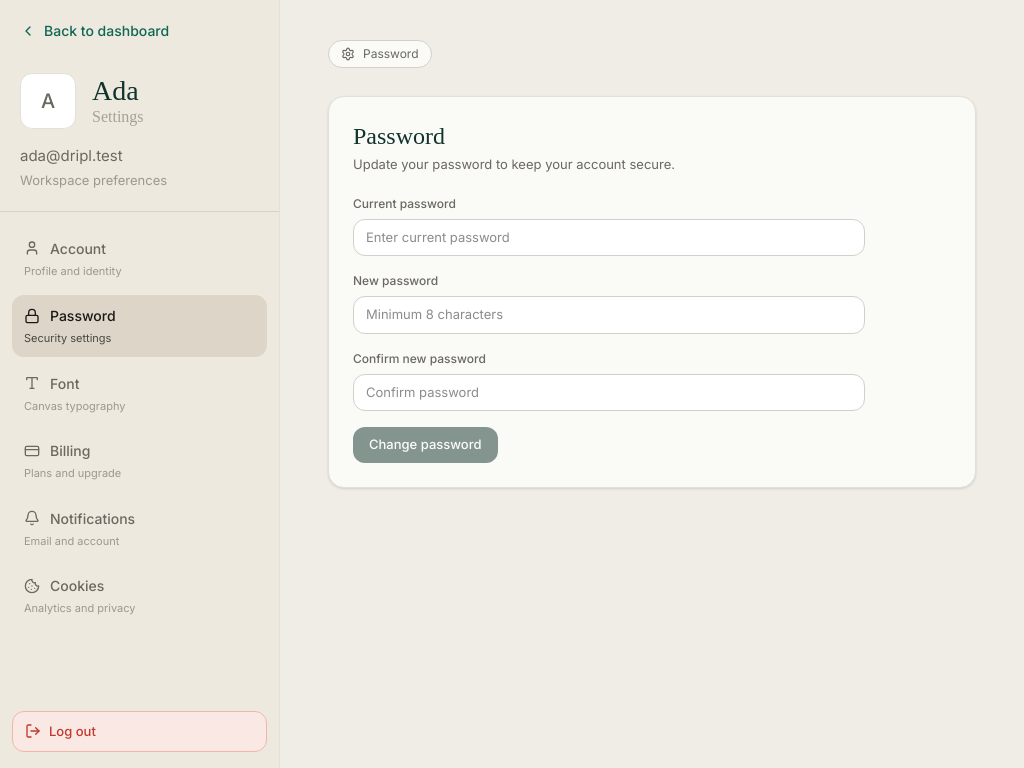
/settings — password › falls back to a readable message for a non-Error rejection
Type "hunter2" into the password field with placeholder "Enter current password". click: (609, 237)
box: [353,218,865,256]
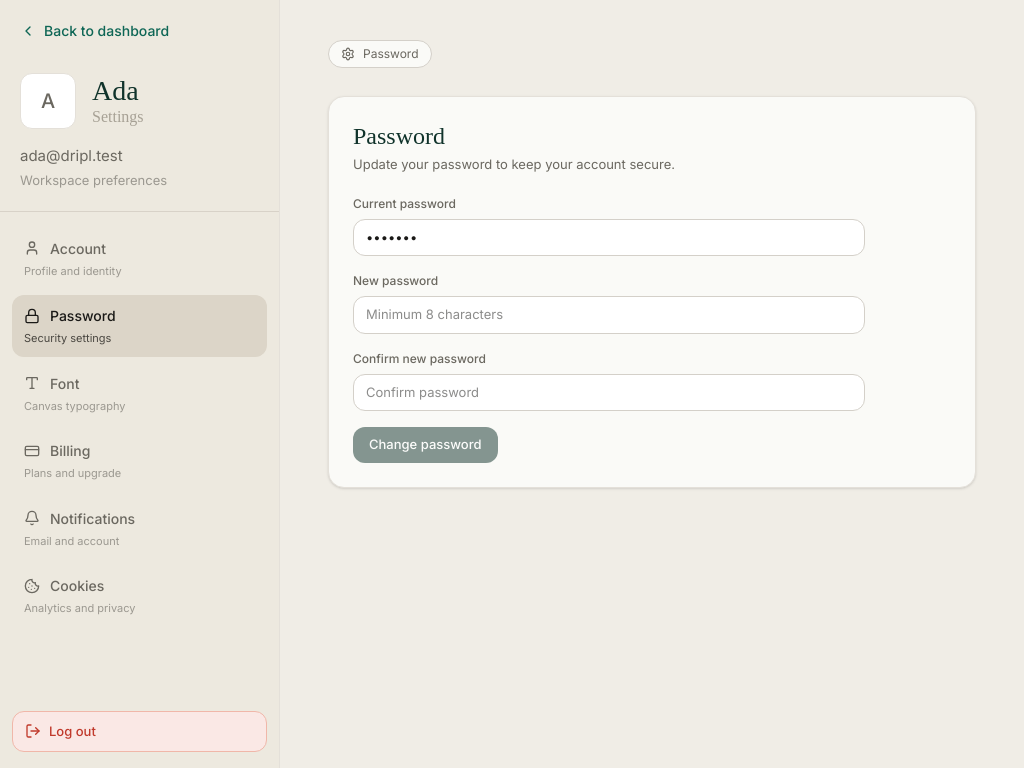
Type "longenough1" into the password field with placeholder "Minimum 8 characters". click: (609, 315)
box: [353,296,865,334]
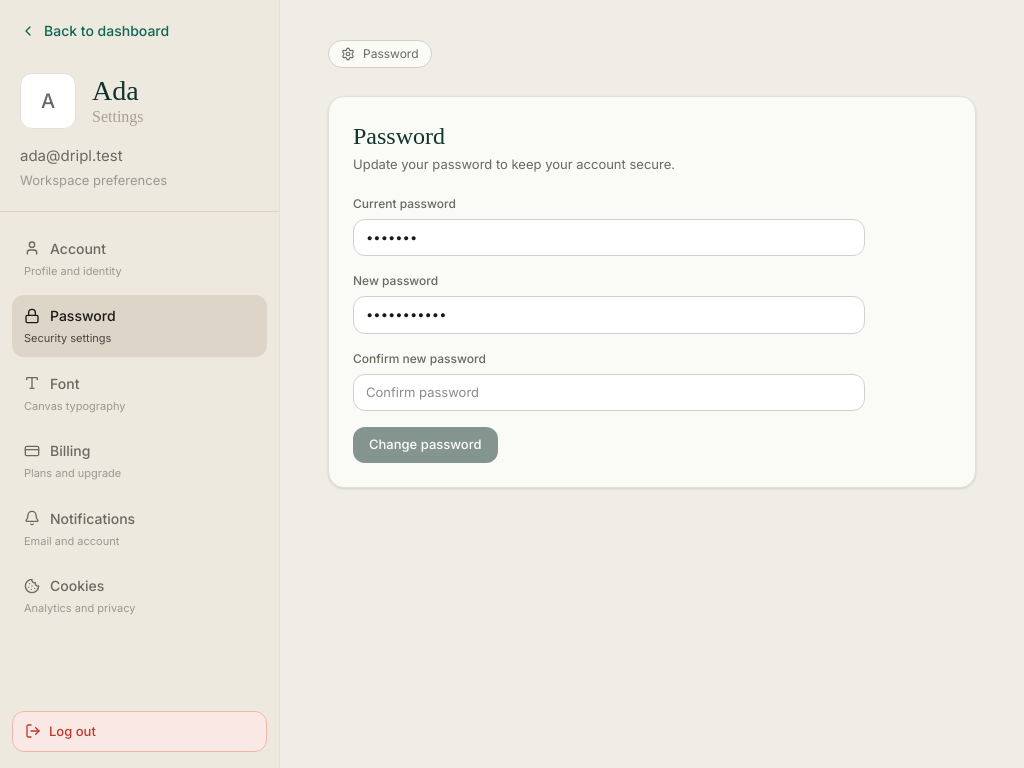
Type "longenough1" into the password field with placeholder "Confirm password". click: (609, 392)
box: [353,374,865,411]
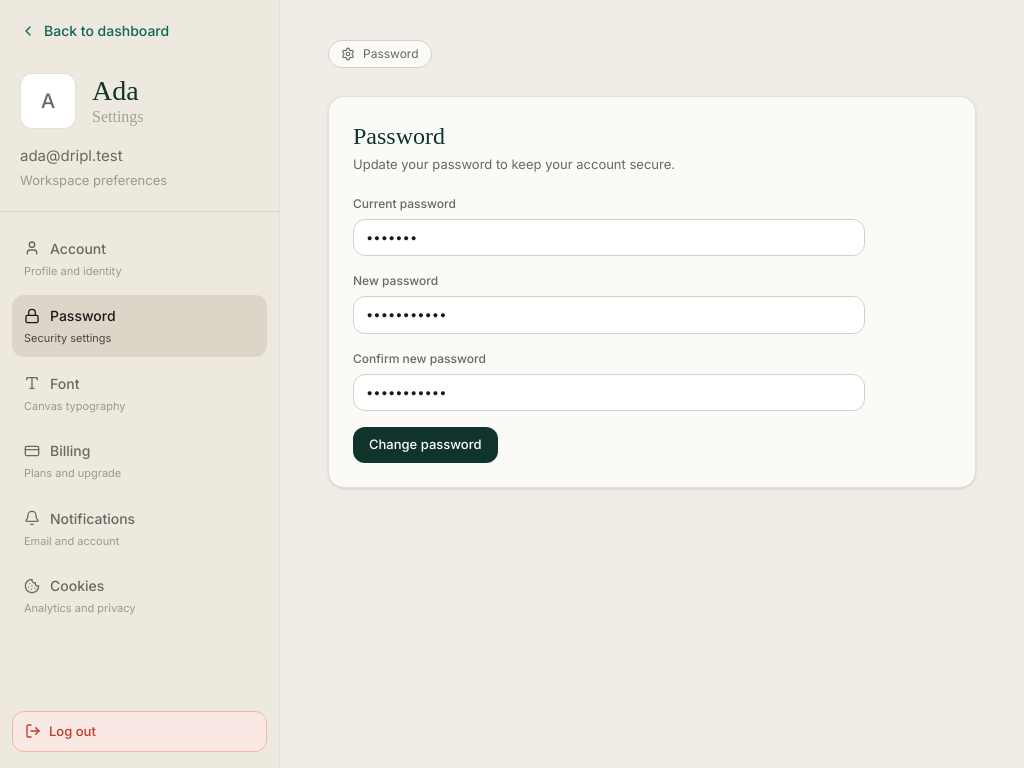
Click the button "Change password". click: (425, 445)
box: [353,427,498,462]
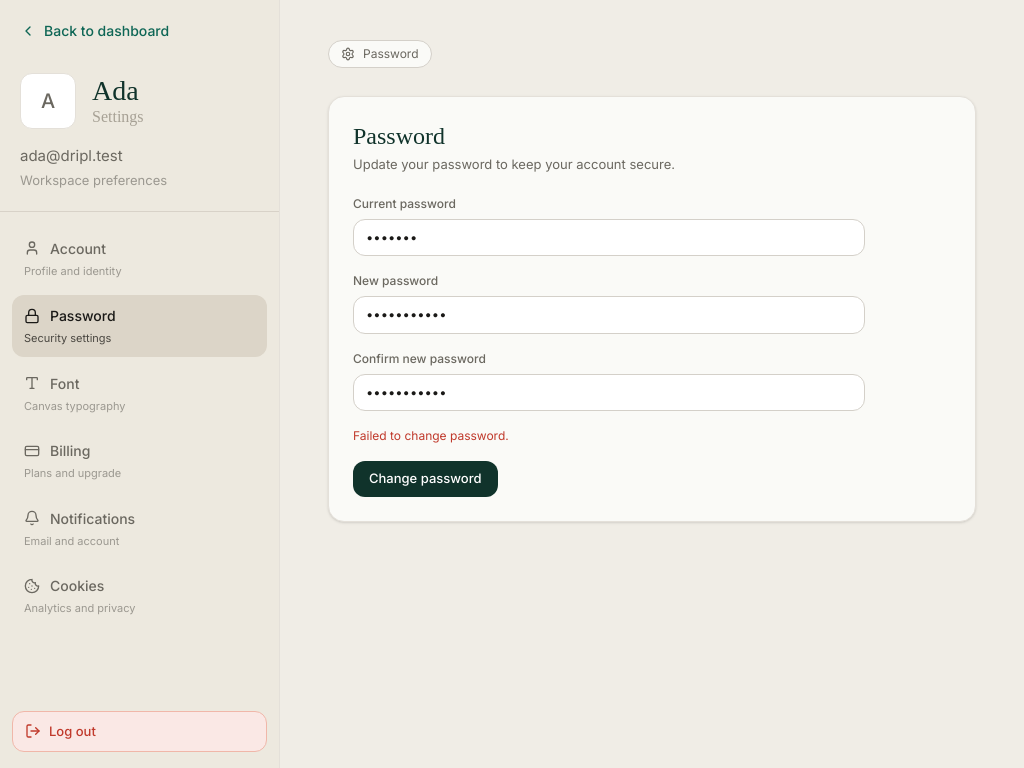
Now the text "Failed to change password." is shown, box [353,428,509,443]
